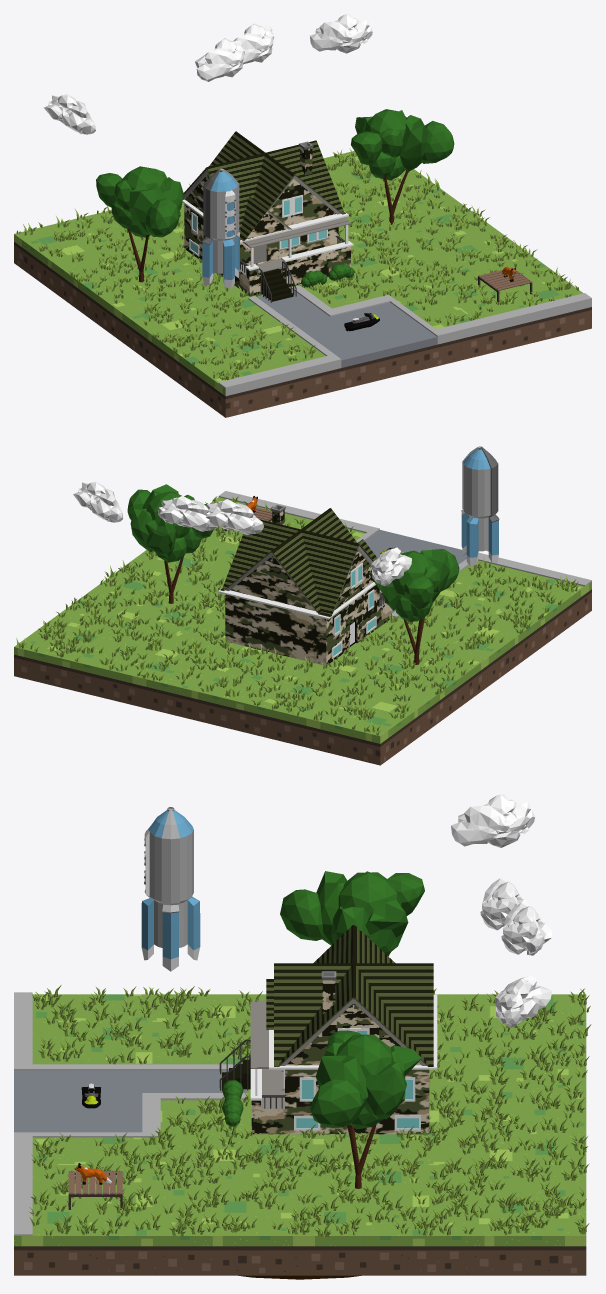
The picture shows the model from 3 angles, top to bottom: view 1: azimuth 30°, elevation 25°; view 2: azimuth 150°, elevation 25°; view 3: azimuth 270°, elevation 25°; orthographic projection. The views are drawn at different scales.
Visible parts, largest first — view 1: Cube.006, Circle.012_Grass_0.192, Cube.001, Cube.007, tree, tree.001, OBJRANDOM_ROCKETSHIP, Cube.009; view 2: Cube.006, Cube.001, Circle.012_Grass_0.192, Cube.007, OBJRANDOM_ROCKETSHIP, tree.001, tree; view 3: Cube.006, Circle.012_Grass_0.192, Cube.001, tree, Cube.007, tree.001, OBJRANDOM_ROCKETSHIP, Cube.009.
Part boxes in pixels (x1,y1,x2,y2): Cube.006: (14, 151, 591, 417); Circle.012_Grass_0.192: (16, 148, 578, 380); Cube.001: (182, 131, 353, 302); Cube.007: (44, 14, 372, 134); tree: (351, 109, 454, 224); tree.001: (96, 166, 183, 282); OBJRANDOM_ROCKETSHIP: (202, 168, 240, 288); Cube.009: (478, 267, 532, 301); Cube.006: (14, 491, 591, 765); Cube.001: (218, 505, 391, 665); Circle.012_Grass_0.192: (16, 496, 578, 735); Cube.007: (73, 481, 411, 586); OBJRANDOM_ROCKETSHIP: (461, 446, 499, 566); tree.001: (368, 549, 459, 664); tree: (127, 484, 213, 603); Cube.006: (14, 992, 586, 1275); Circle.012_Grass_0.192: (29, 985, 591, 1237); Cube.001: (219, 925, 437, 1134); tree: (310, 1030, 421, 1188); Cube.007: (451, 794, 551, 1027); tree.001: (280, 871, 424, 956); OBJRANDOM_ROCKETSHIP: (141, 807, 200, 971); Cube.009: (68, 1170, 122, 1209).
Size of the model in its own units: 4071 by 2242 by 4040.
34 materials, 5 textured.
